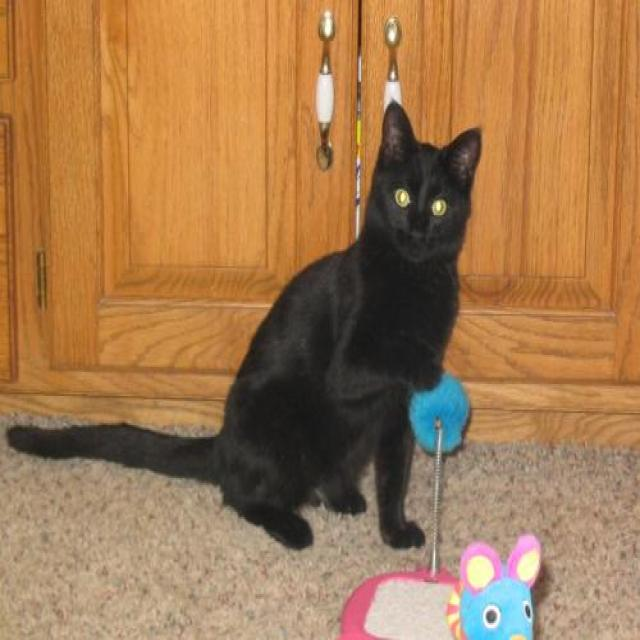Cats: (5, 96, 483, 551)
